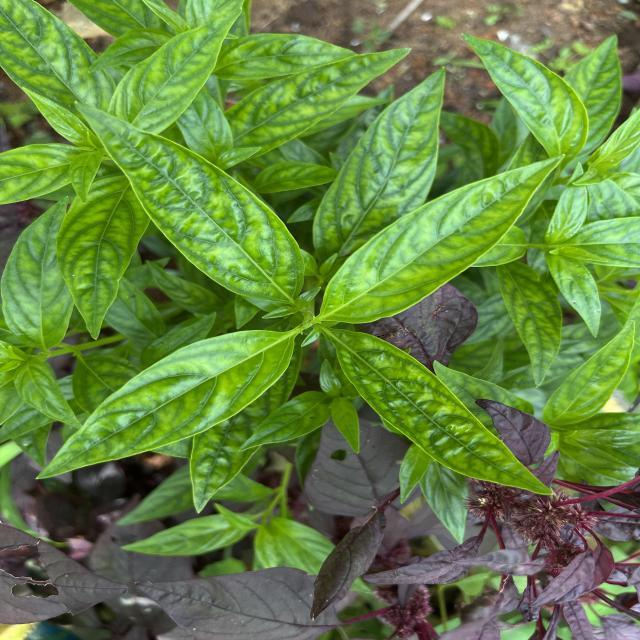Andrographis paniculata: (73, 98, 305, 306), (317, 152, 570, 326), (317, 328, 558, 498), (35, 325, 296, 480), (310, 66, 448, 260), (224, 46, 413, 158), (106, 7, 246, 136), (460, 32, 590, 166), (59, 172, 152, 344), (0, 194, 76, 348), (542, 319, 637, 426), (495, 262, 563, 389), (238, 390, 330, 452)
